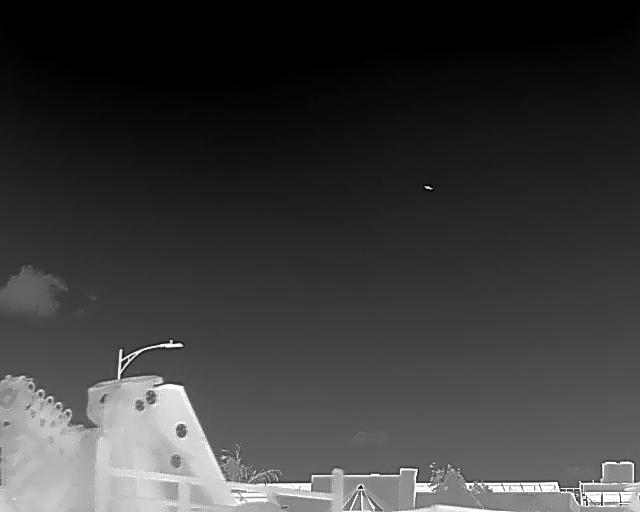fpv-drone: (423, 185, 433, 190)
